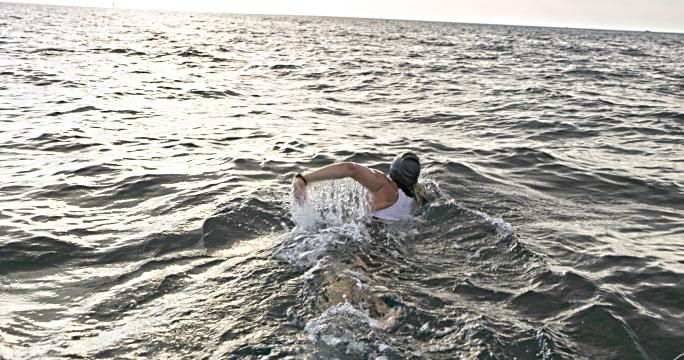human: (289, 149, 435, 232)
